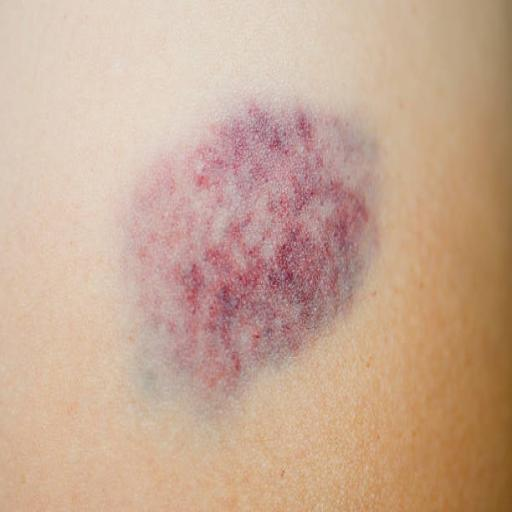bruises: (206, 184, 332, 340)
